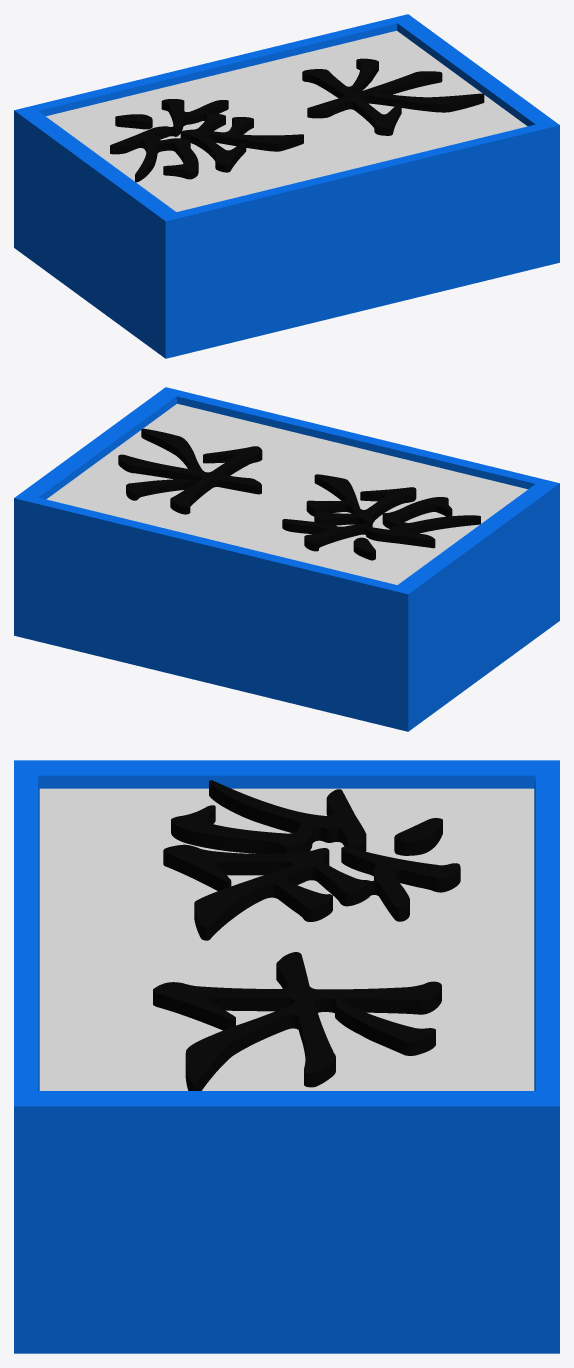
File: 4_lv_zhang.fbx
3 renders of one model, top to bottom at view 1: azimuth 30°, elevation 25°; view 2: azimuth 150°, elevation 25°; view 3: azimuth 270°, elevation 25°, orthographic. The views are drawn at different scales.
Parts seen in each view (by area): view 1: Cube, 文本; view 2: Cube, 文本; view 3: Cube, 文本.
Part boxes in pixels (bbox=[...]): Cube: bbox=[14, 14, 559, 358]; 文本: bbox=[110, 58, 484, 182]; Cube: bbox=[14, 387, 559, 731]; 文本: bbox=[118, 428, 480, 560]; Cube: bbox=[14, 760, 559, 1353]; 文本: bbox=[153, 780, 460, 1090].
Size of the model in its own units: 240 by 80.47 by 160.
